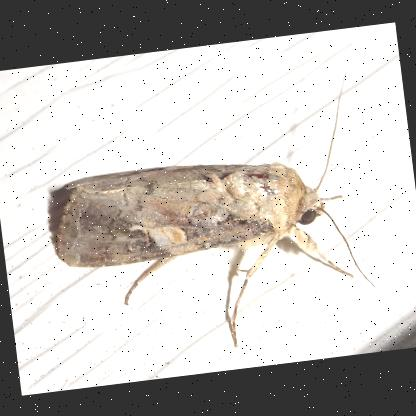Fall Armyworm Moth: (35, 68, 384, 370)
